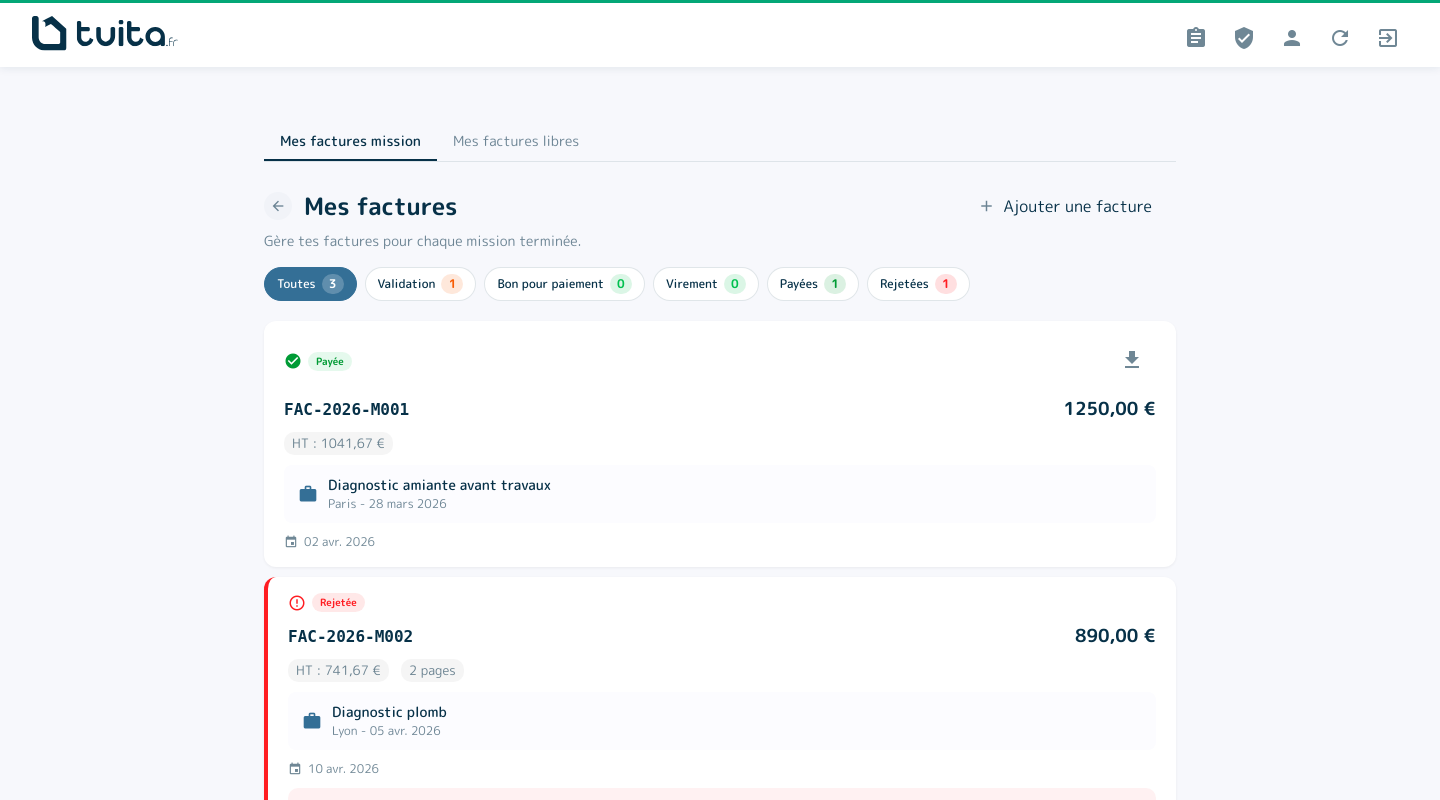
Test: Plan Gratuit — Flow factures et souscription › Factures — rejet et correction › filtre les factures par statut payees
Click the button "Payées 1" at (813, 284), box top-left (767, 267), bottom-right (859, 301)
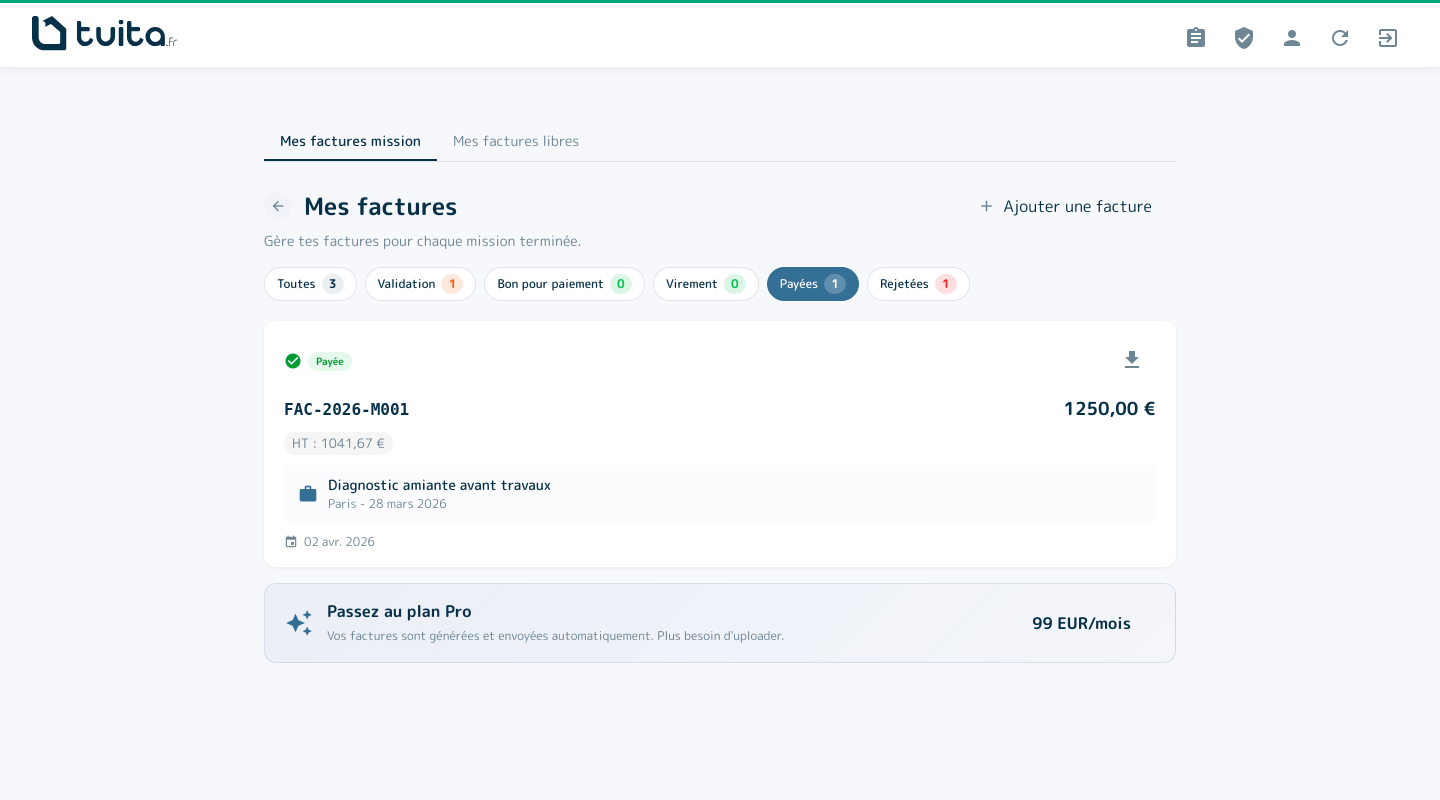
Expected: the text "FAC-2026-M001" is shown, top-left (284, 400), bottom-right (409, 419)
Result: the button "FAC-2026-M002" is gone
